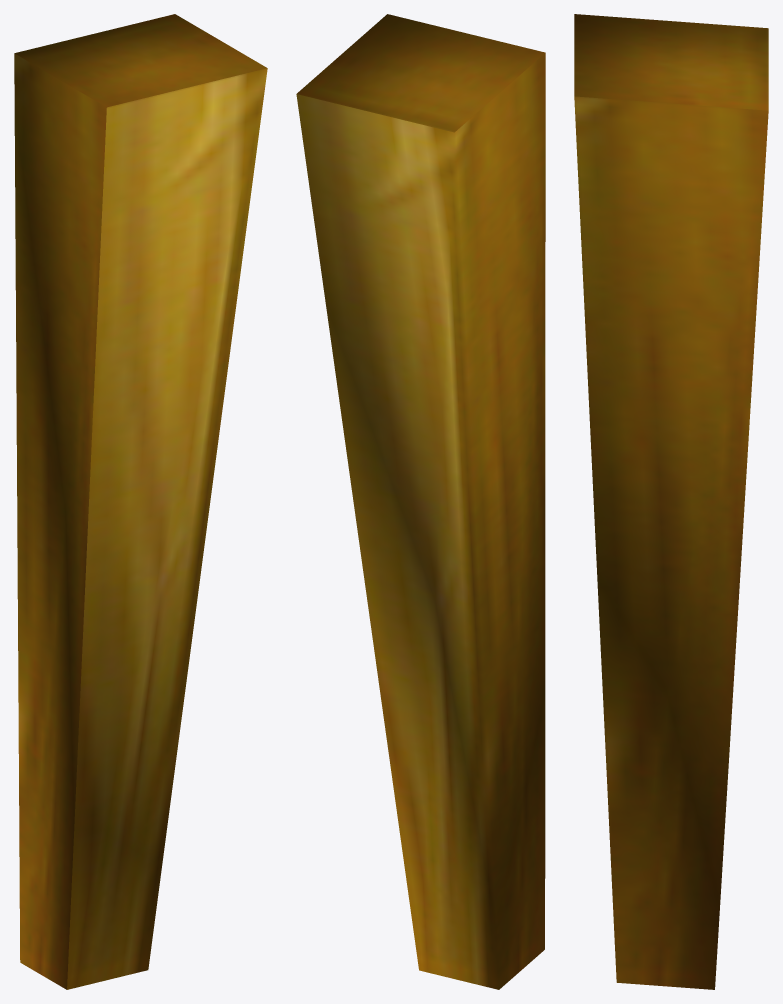
The model's file is mutou1.FBX.
3 views of the same model, side by side, from view 1: azimuth 30°, elevation 25°; view 2: azimuth 150°, elevation 25°; view 3: azimuth 270°, elevation 25° (orthographic). The views are drawn at different scales.
Visible parts, largest first — view 1: Object040; view 2: Object040; view 3: Object040.
Part boxes in pixels (<box>): Object040: <box>14,14,267,989</box>; Object040: <box>296,14,545,989</box>; Object040: <box>574,14,768,989</box>.
Size of the model in its own units: 3325 by 15828 by 2953.
